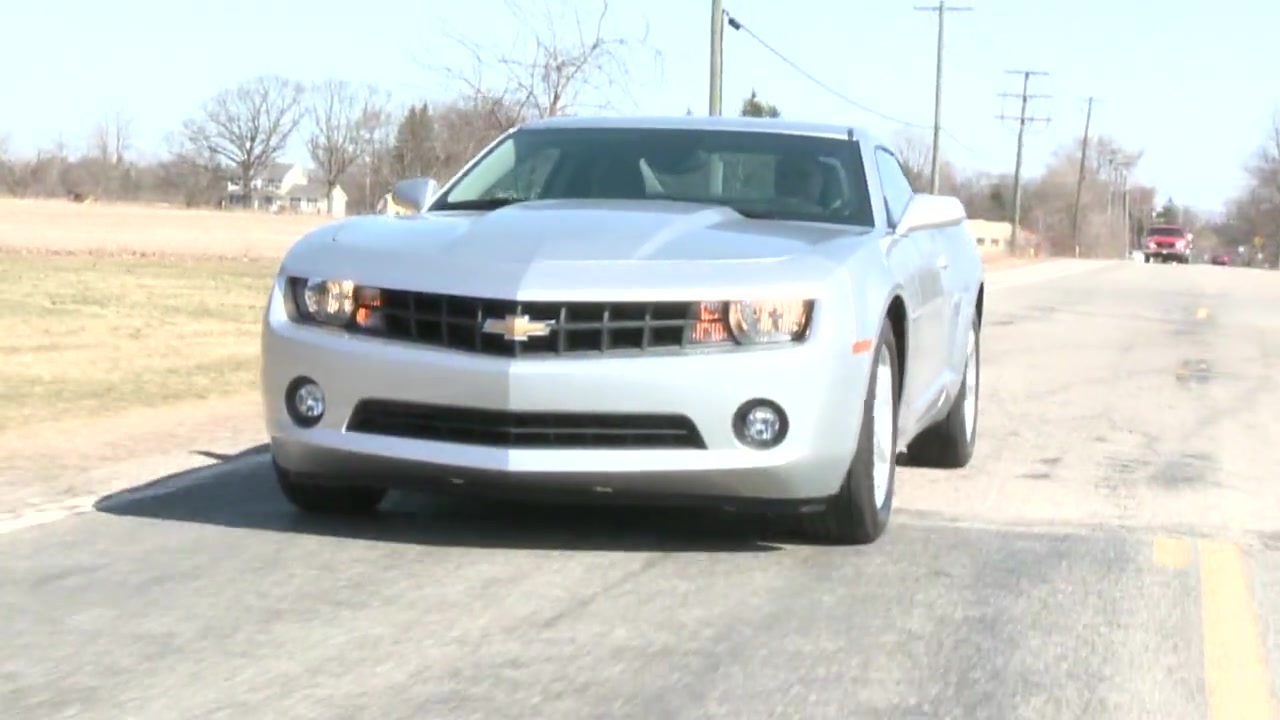car: (263, 111, 988, 550)
